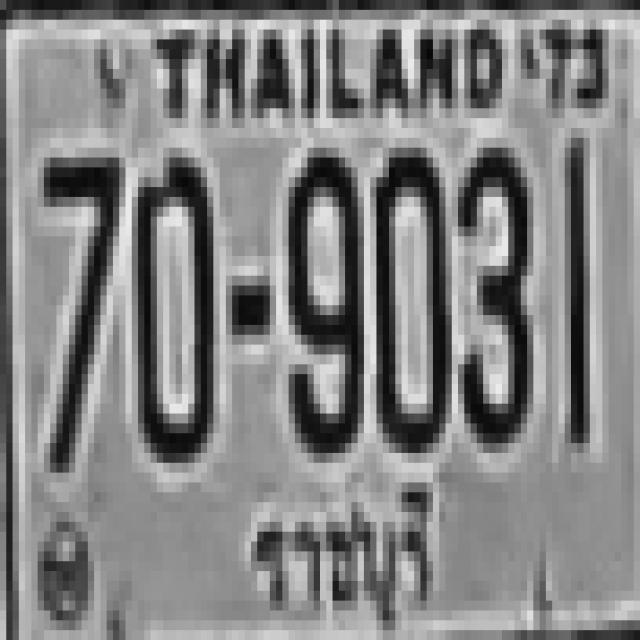0: (132, 148, 213, 453), (370, 143, 446, 438)
1: (562, 138, 586, 443)
3: (458, 143, 527, 438)
7: (38, 148, 119, 462), (38, 153, 119, 389), (38, 153, 119, 360)
9: (282, 148, 358, 453)
Ratchaburi: (244, 482, 439, 633)
